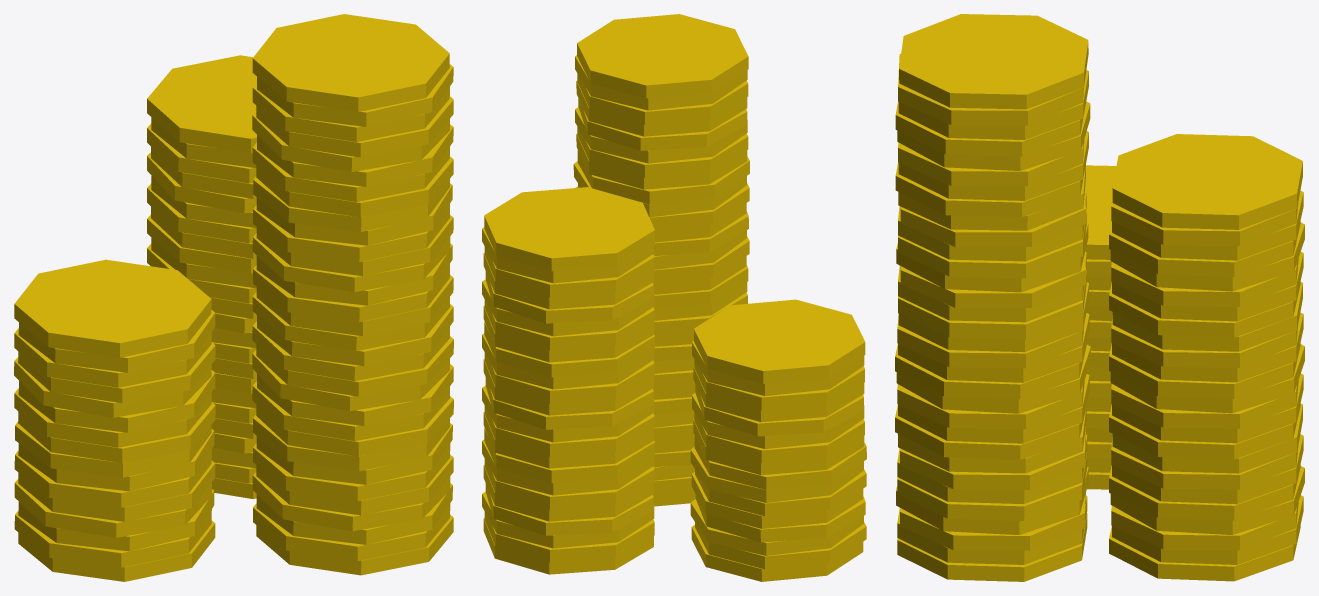
File: CoinStack2.fbx
The picture shows the model from 3 angles, left to right: view 1: azimuth 30°, elevation 25°; view 2: azimuth 150°, elevation 25°; view 3: azimuth 270°, elevation 25°; orthographic projection. The views are drawn at different scales.
Visible parts, largest first — view 1: CoinStack2; view 2: CoinStack2; view 3: CoinStack2.
Part boxes in pixels (left/top/right/bottom): CoinStack2: left=14, top=14, right=453, bottom=581; CoinStack2: left=482, top=14, right=866, bottom=581; CoinStack2: left=895, top=14, right=1304, bottom=581.
Size of the model in its own units: 25.29 by 32.94 by 25.14.
